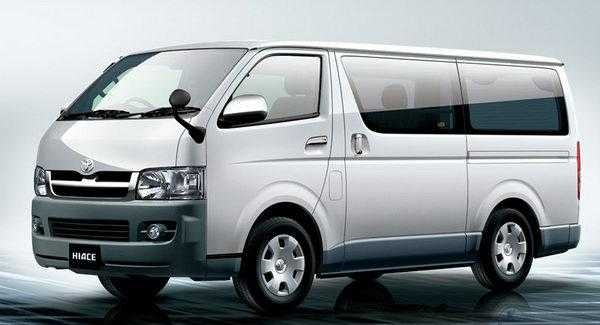van: (31, 41, 581, 313)
